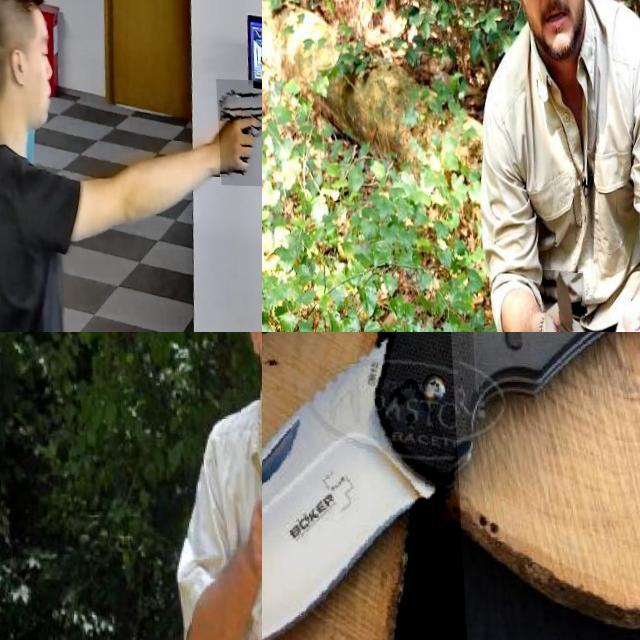-: (262, 332, 463, 640), (538, 268, 584, 332)
gun-knife-thesis - v11 Yolov5 augmented: (212, 75, 262, 183)
